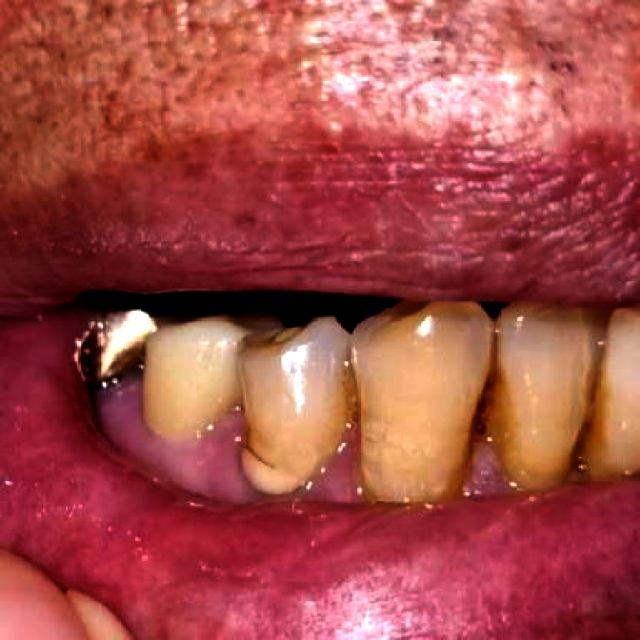Plaque: (466, 440, 509, 496), (242, 438, 283, 469)
